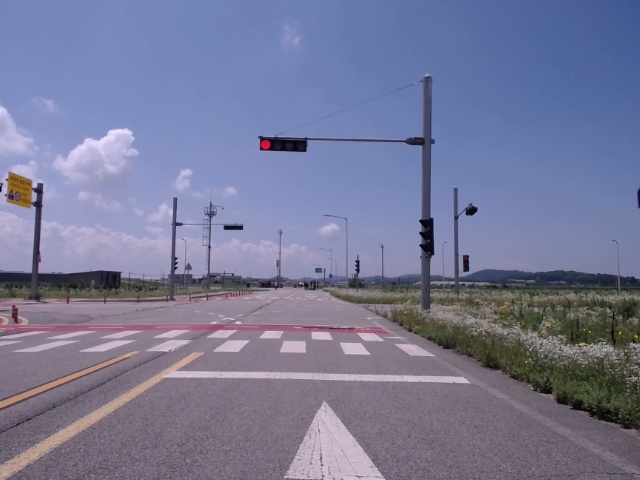red_4: (260, 138, 307, 152)
